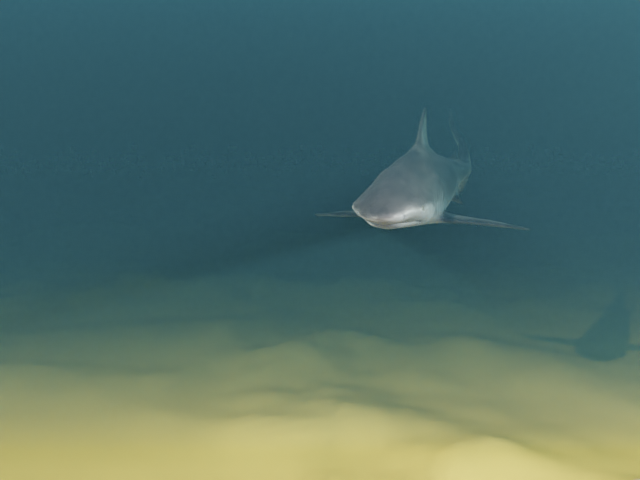Carribean Shark.001: (314, 107, 530, 230)
